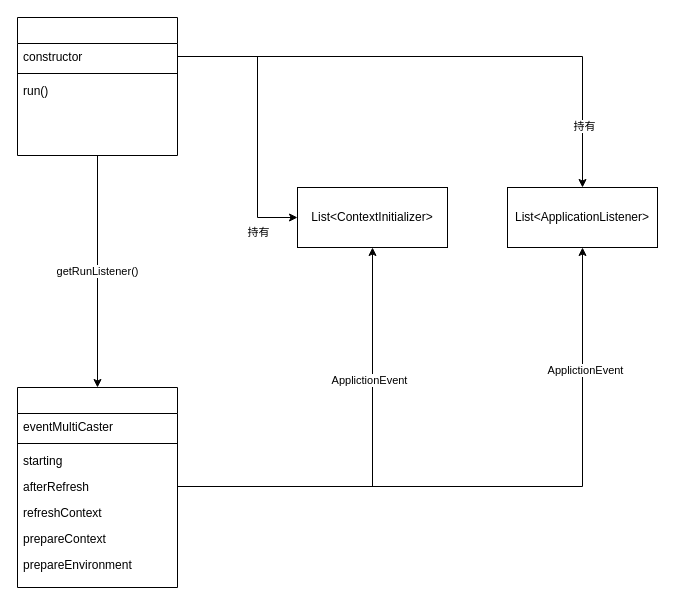
This 675x605 diagram has some shape labels left out. Each missing label, with the box of its shape:
EventPubllisingRunListener: (16, 386, 178, 588)
SpringAppliction: (16, 16, 178, 156)
